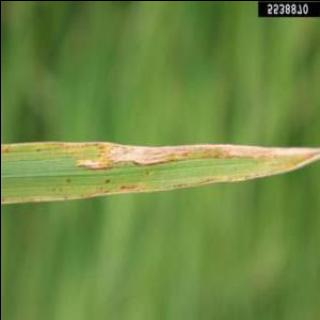Hawar-Daun: (3, 166, 263, 206), (68, 140, 320, 177)
